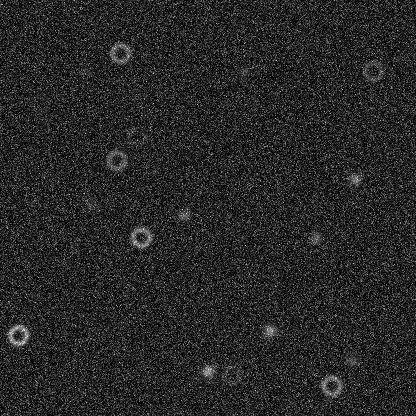Ring: (128, 225, 152, 249), (108, 41, 132, 65), (6, 323, 30, 347), (27, 91, 51, 115), (360, 59, 384, 83), (319, 373, 343, 397), (124, 123, 148, 147), (219, 362, 243, 386), (104, 148, 128, 172)
Spot: (176, 207, 192, 223), (343, 352, 359, 368), (261, 322, 277, 338), (76, 61, 92, 77), (82, 197, 98, 213), (235, 64, 251, 80), (307, 230, 323, 246), (346, 171, 362, 187), (199, 363, 215, 379)
